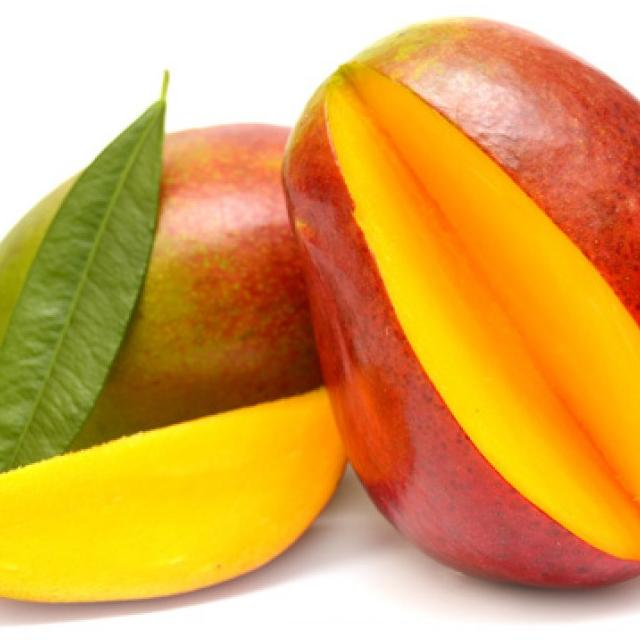mango: (285, 19, 640, 586), (72, 125, 322, 448), (0, 388, 345, 601), (0, 177, 75, 345)
